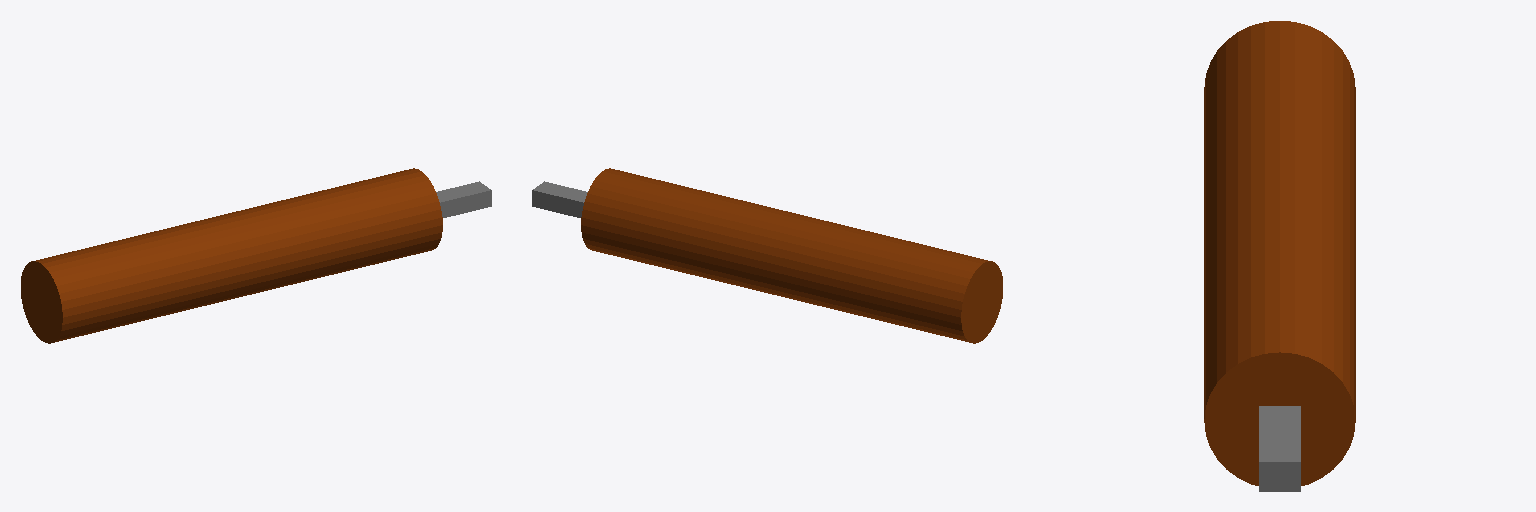
The robot description file, URDF, robot "handle_head":
<?xml version="1.0"?>
<robot name="handle_head">

  <link name="handle_head">
    <!-- Handle -->
    <visual>
              <origin xyz="0 0 0" rpy="0 -1.5707963267948966 0"/>
        <geometry>
          <cylinder length="0.14666841524690463" radius="0.014136924469468352"/>
        </geometry>
        
      <material name="brown">
        <color rgba="0.55 0.27 0.07 1.0"/>
      </material>
    </visual>
    <collision>
              <origin xyz="0 0 0" rpy="0 -1.5707963267948966 0"/>
        <geometry>
          <cylinder length="0.14666841524690463" radius="0.014136924469468352"/>
        </geometry>
        
    </collision>

    <!-- Head -->
    <visual>
              <origin xyz="0.08563845473986532 0 0" rpy="0 0 0"/>
        <geometry>
          <box size="0.024608494232826017 0.007983853650480445 0.006111023867974875"/>
        </geometry>
        
      <material name="gray">
        <color rgba="0.5 0.5 0.5 1.0"/>
      </material>
    </visual>
    <collision>
              <origin xyz="0.08563845473986532 0 0" rpy="0 0 0"/>
        <geometry>
          <box size="0.024608494232826017 0.007983853650480445 0.006111023867974875"/>
        </geometry>
        
    </collision>

    <inertial>
      <origin xyz="0.0010655408541833497 0 0" rpy="0 0 0"/>
      <mass value="0.040336000098801145"/>
      <inertia ixx="3.894045532325577e-06" iyy="9.698724599228284e-05" izz="9.698835000094317e-05" ixy="0" ixz="0" iyz="0"/>
    </inertial>
  </link>

</robot>

--- Render facts (derived) ---
The picture shows the robot from 3 angles, left to right: view 1: azimuth 30°, elevation 25°; view 2: azimuth 150°, elevation 25°; view 3: azimuth 270°, elevation 25°; orthographic projection.
Model handle_head with 1 links and 0 joints (none), rooted at handle_head, posed every joint at zero.
Links seen in each view (by area): view 1: handle_head; view 2: handle_head; view 3: handle_head.
Boxes of the visible links, x1,y1,x2,y2 form: handle_head: [21, 168, 491, 343]; handle_head: [532, 168, 1002, 343]; handle_head: [1204, 21, 1355, 491].
Size in the robot's own frame: 0.1713 by 0.0283 by 0.0283 metres.
Geometry: primitives only (box / cylinder / sphere), no mesh files.
